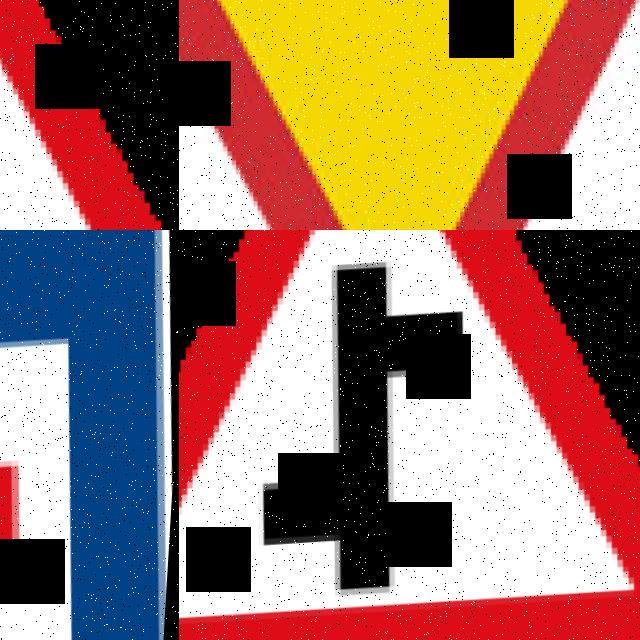174: (179, 0, 640, 230)
Dip: (0, 0, 179, 230)
First aid post: (0, 230, 179, 640)
Staggered side road junction: (179, 230, 640, 640)
